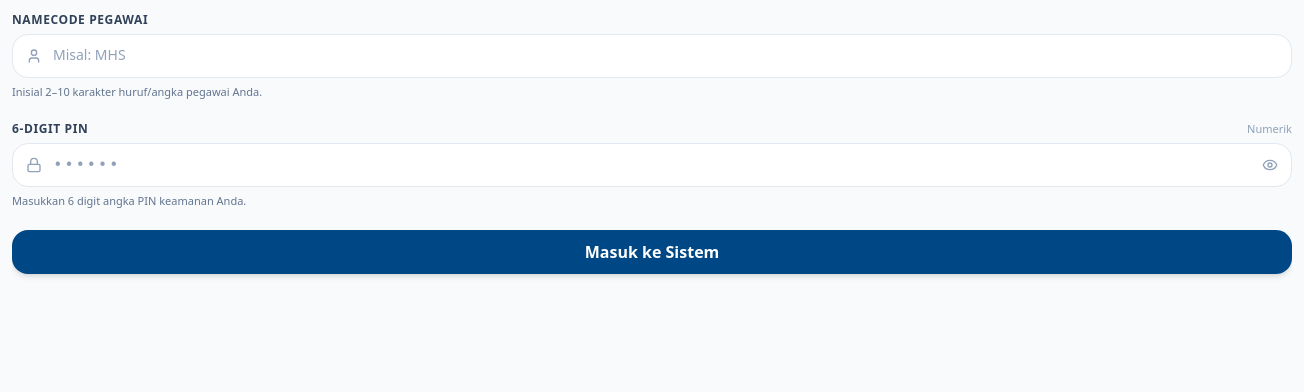
Auth Login Feature (Task P1.3) Tests › LoginForm Component › displays generic error banner on invalid credentials (422)
Type "XYZ" into the field labelled "Namecode Pegawai".
click(652, 56); type("XYZ")  # box [12, 34, 1292, 78]
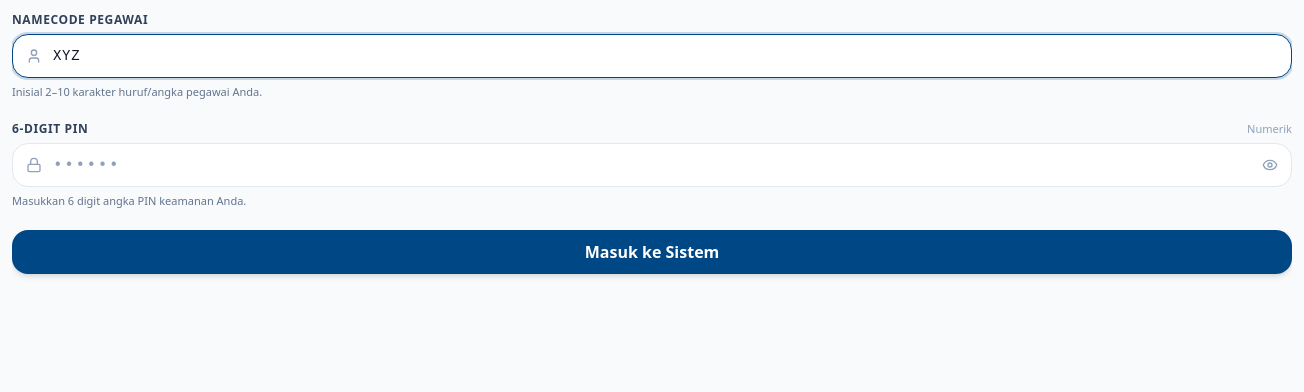
Type "999999" into the password field labelled "6-Digit PIN".
click(652, 165); type("999999")  # box [12, 143, 1292, 187]
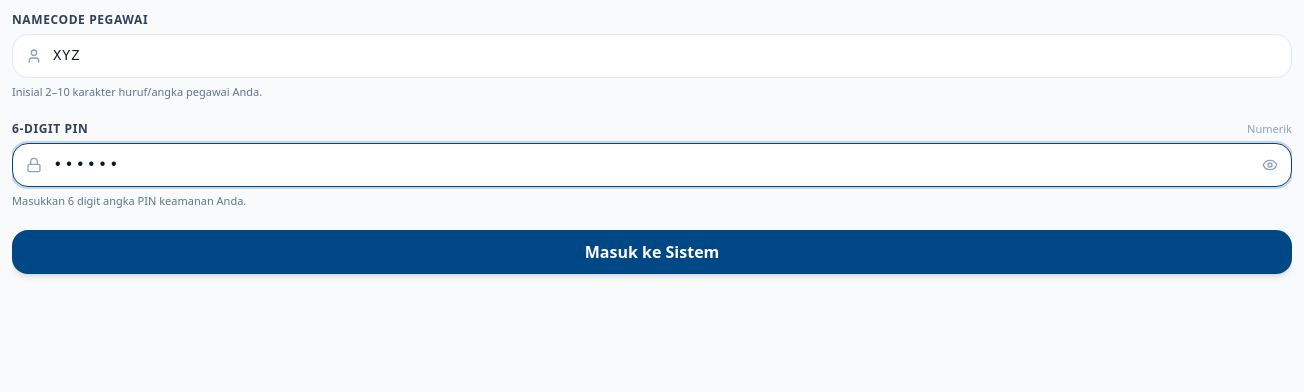
Click the button "Masuk ke Sistem".
click(652, 252)  # box [12, 230, 1292, 274]
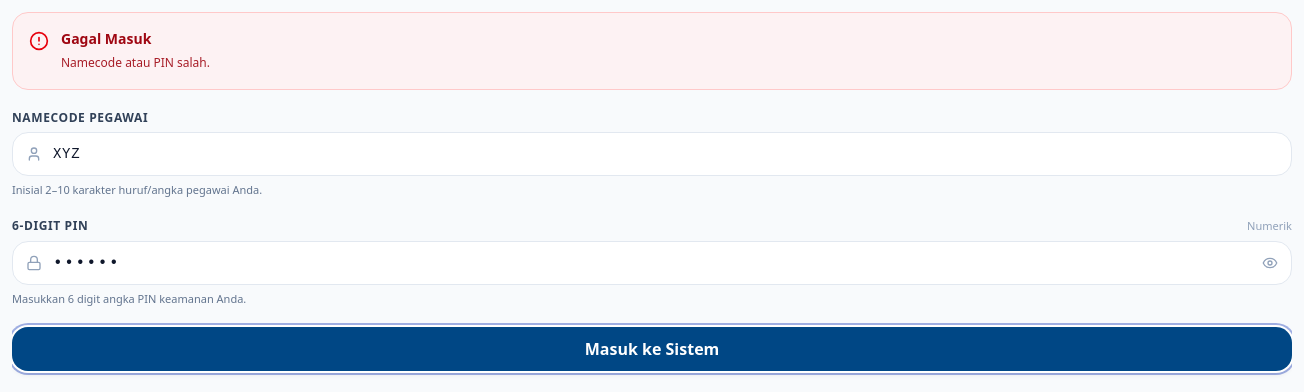
Expected: the message "Gagal Masuk Namecode atau PIN salah." is shown, [12, 12, 1292, 90]
Expected: the text "Gagal Masuk" is shown, [61, 29, 151, 48]
Expected: the text "Namecode atau PIN salah." is shown, [61, 54, 210, 71]
